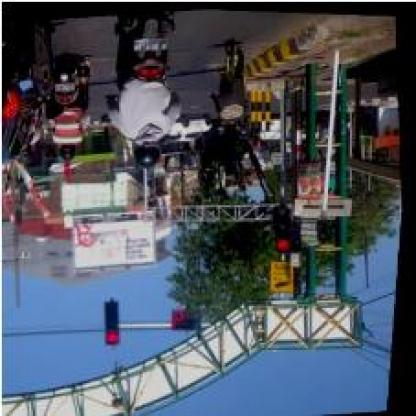red: (275, 202, 297, 252), (106, 298, 126, 344)
